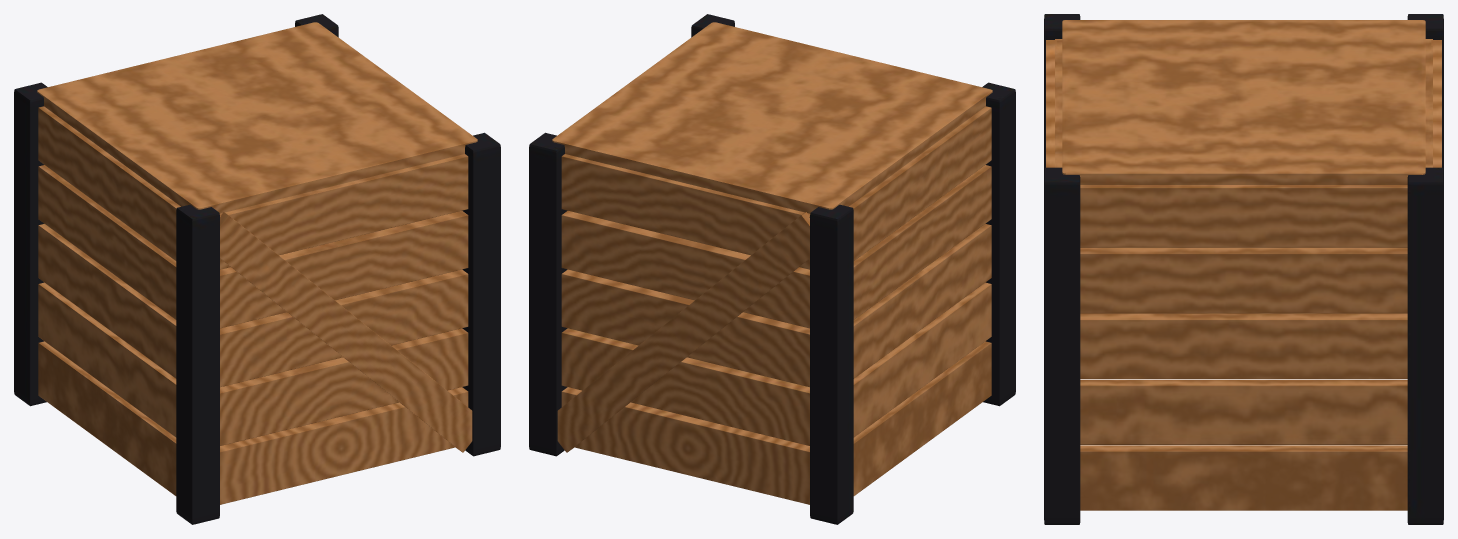
Rendered from crate.glb.
The picture shows the model from 3 angles, left to right: view 1: azimuth 30°, elevation 25°; view 2: azimuth 150°, elevation 25°; view 3: azimuth 270°, elevation 25°; orthographic projection. The views are drawn at different scales.
Parts seen in each view (by area): view 1: crate; view 2: crate; view 3: crate.
Part boxes in pixels (x1,y1,x2,y2): crate: (14, 14, 500, 524); crate: (529, 14, 1015, 524); crate: (1044, 14, 1443, 524).
Bounding box in the file's own units: 1.1 × 1.04 × 1.1.
1 material, 1 textured.
